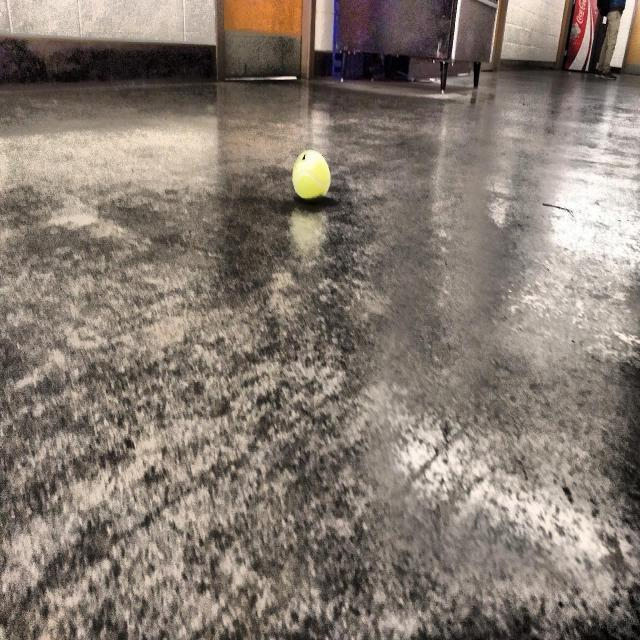tennis-ball: (290, 143, 332, 211)
